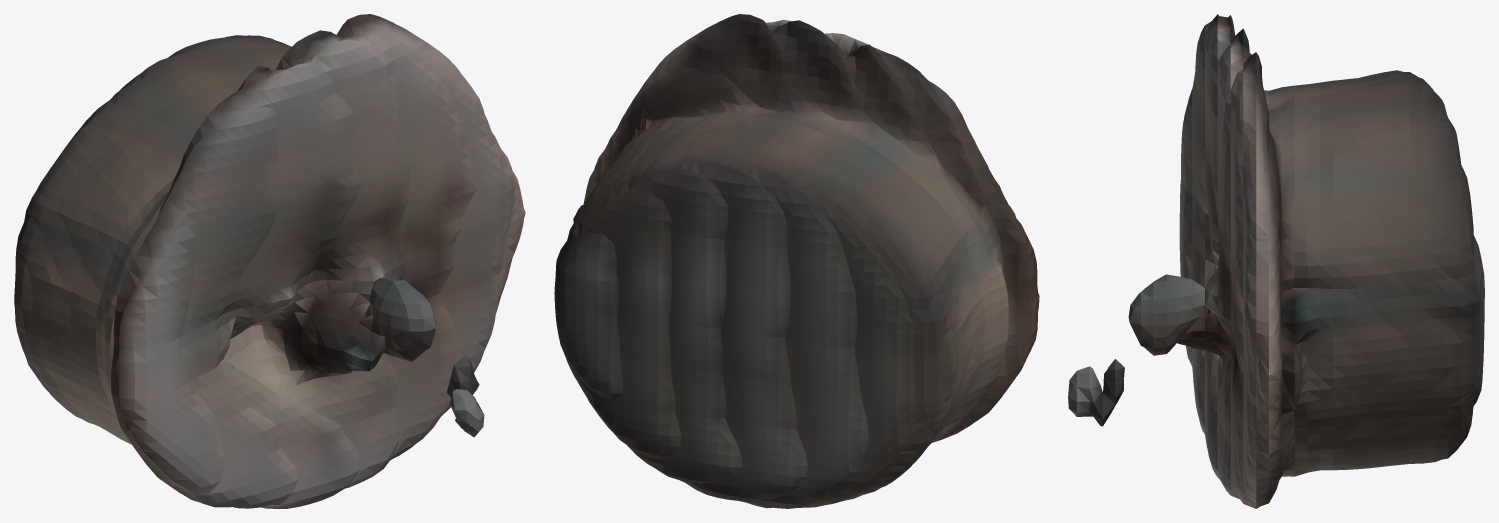
File: Room.obj
3 views of the same model, side by side, from view 1: azimuth 30°, elevation 25°; view 2: azimuth 150°, elevation 25°; view 3: azimuth 270°, elevation 25° (orthographic). The views are drawn at different scales.
Bounding box in the file's own units: 0.2703 × 0.2653 × 0.2222.
